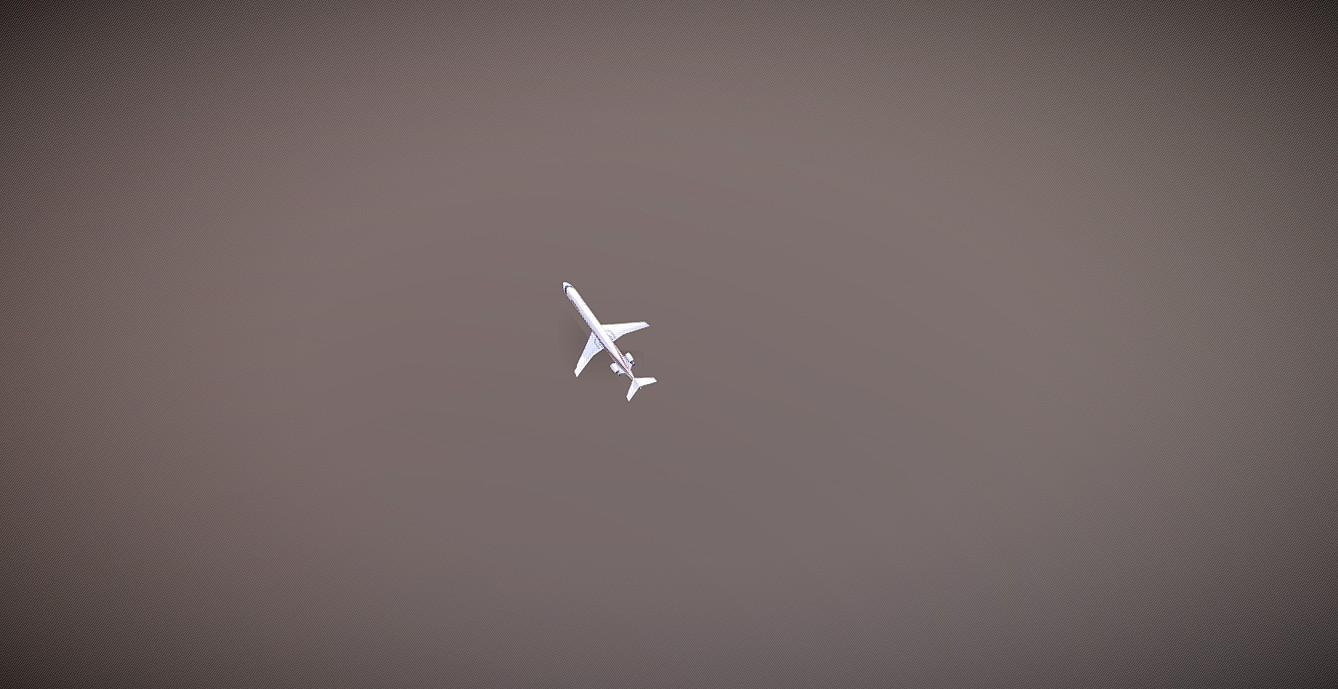Airplane: (560, 279, 657, 402)
